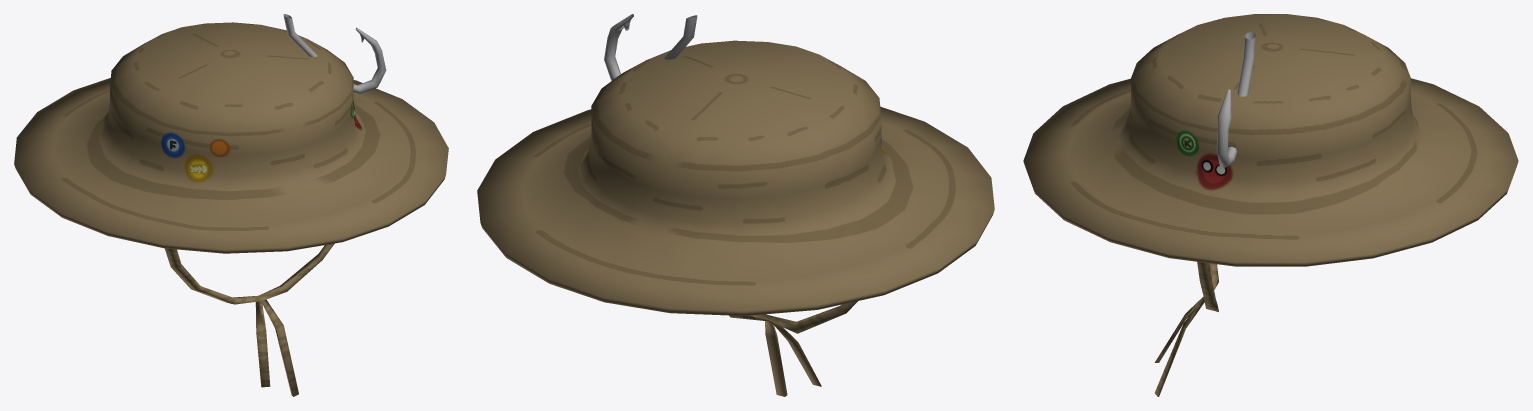
File: CU_FishingHat.fbx
The picture shows the model from 3 angles, left to right: view 1: azimuth 30°, elevation 25°; view 2: azimuth 150°, elevation 25°; view 3: azimuth 270°, elevation 25°; orthographic projection. The views are drawn at different scales.
Visible parts, largest first — view 1: FishingHat, FishHook; view 2: FishingHat, FishHook; view 3: FishingHat, FishHook.
Boxes of the visible parts, x1=… form: FishingHat: x1=14, y1=22, x2=448, y2=396; FishHook: x1=283, y1=14, x2=386, y2=93; FishingHat: x1=477, y1=40, x2=994, y2=396; FishHook: x1=604, y1=14, x2=697, y2=80; FishingHat: x1=1023, y1=14, x2=1518, y2=396; FishHook: x1=1216, y1=32, x2=1255, y2=167.
Size of the model in its own units: 241 by 211 by 250.
